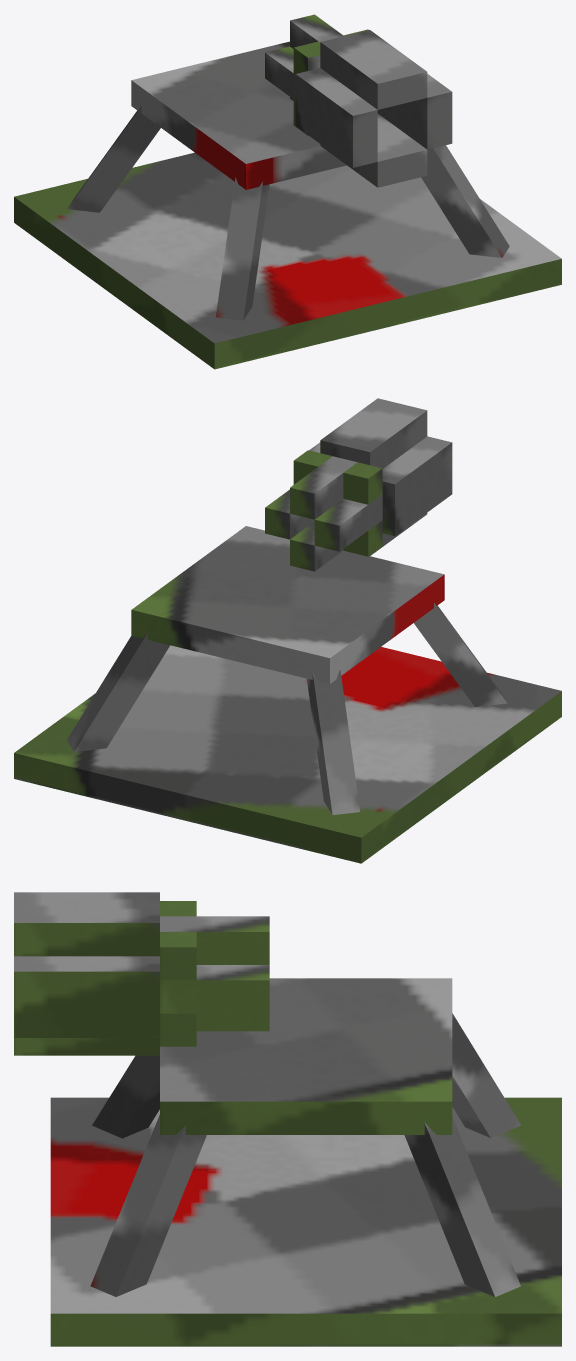
Rendered from charging_station.obj.
3 renders of one model, top to bottom at view 1: azimuth 30°, elevation 25°; view 2: azimuth 150°, elevation 25°; view 3: azimuth 270°, elevation 25°, orthographic. The views are drawn at different scales.
Visible parts, largest first — view 1: Base, Leg4, Leg3, Leg1, InputSmall2; view 2: Base, Leg2, Leg1, Leg4, InputSmall2, InputSmall3; view 3: Base, Leg2, Leg3, Leg1, Leg4, Back4, Platform, InputSmall3, InputSmall4, Back2, InputSmall1.
Boxes of the visible parts, x1,y1,x2,y2 form: Base: [14, 14, 561, 369]; Leg4: [216, 177, 269, 320]; Leg3: [421, 145, 509, 257]; Leg1: [67, 106, 160, 212]; InputSmall2: [265, 46, 295, 100]; Base: [14, 398, 561, 863]; Leg2: [66, 633, 169, 751]; Leg1: [307, 669, 360, 814]; Leg4: [414, 603, 507, 706]; InputSmall2: [314, 494, 382, 551]; InputSmall3: [290, 522, 343, 571]; Base: [14, 892, 561, 1346]; Leg2: [404, 1117, 520, 1296]; Leg3: [90, 1114, 206, 1296]; Leg1: [452, 1013, 520, 1137]; Leg4: [92, 1055, 159, 1138]; Back4: [14, 971, 158, 1037]; Platform: [160, 1101, 451, 1134]; InputSmall3: [196, 1013, 269, 1031]; InputSmall4: [160, 980, 269, 1013]; Back2: [14, 1038, 159, 1055]; InputSmall1: [196, 932, 269, 964].
Bounding box in the file's own units: 0.875 × 0.625 × 0.9375.
